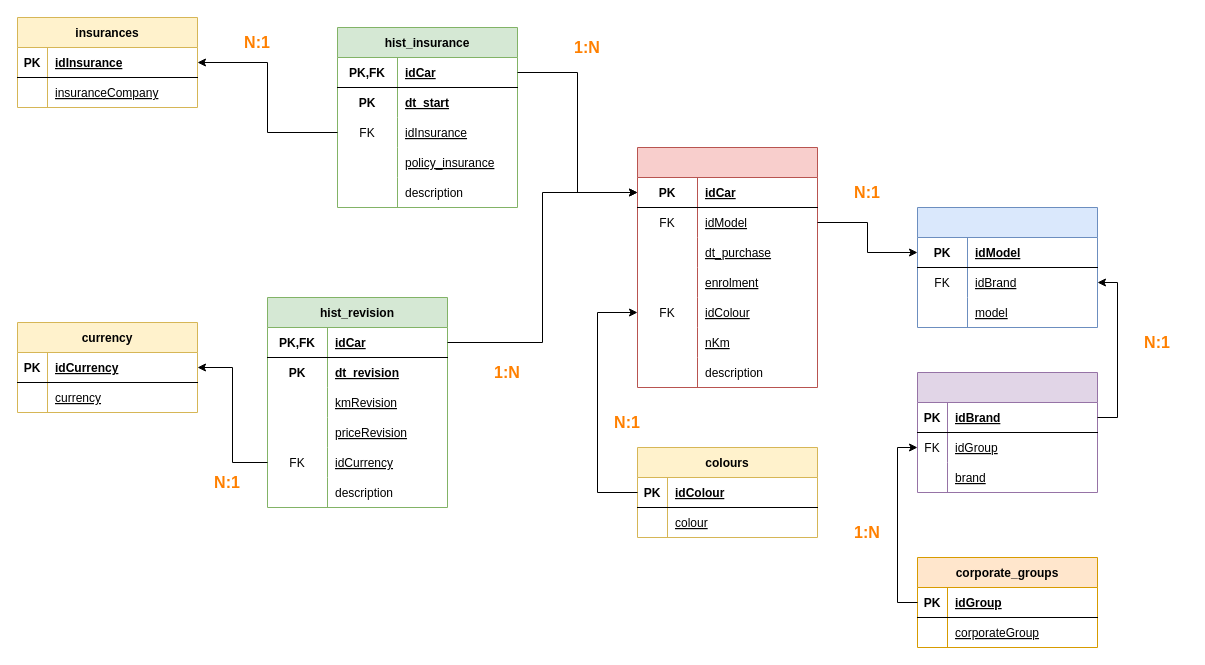
This 1205x665 diagram has some shape labels left out. The box of each missing label's shape, as (x1, y1, x2, y2) in pixels:
brands: (916, 372, 1098, 492)
cars: (636, 146, 818, 388)
models: (916, 206, 1098, 328)
